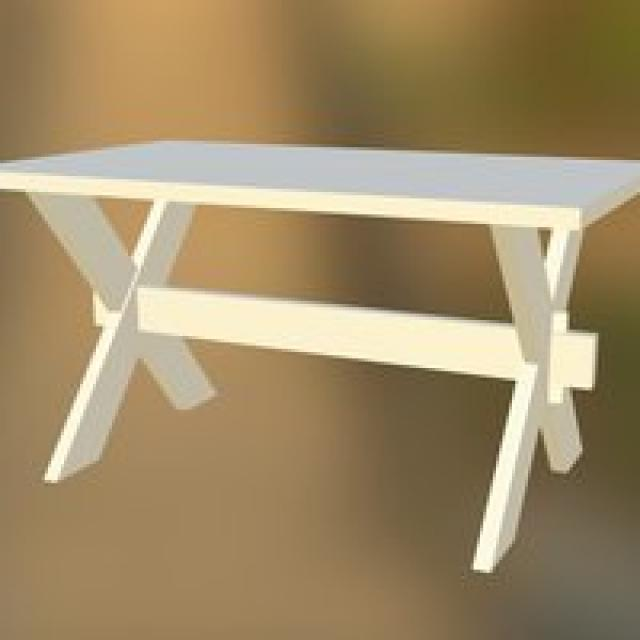table: (0, 137, 640, 571)
